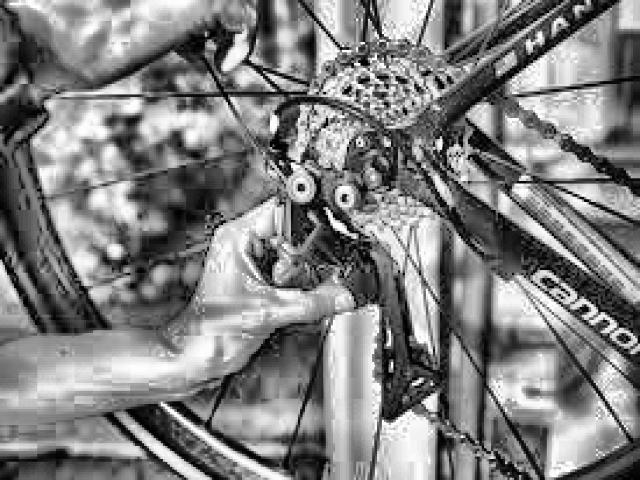cassette: (297, 35, 471, 227)
rear_derailleur: (276, 171, 444, 424)
